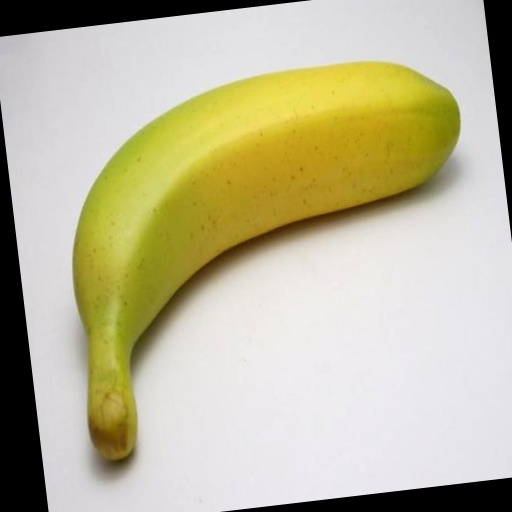fruit: (73, 62, 459, 460)
